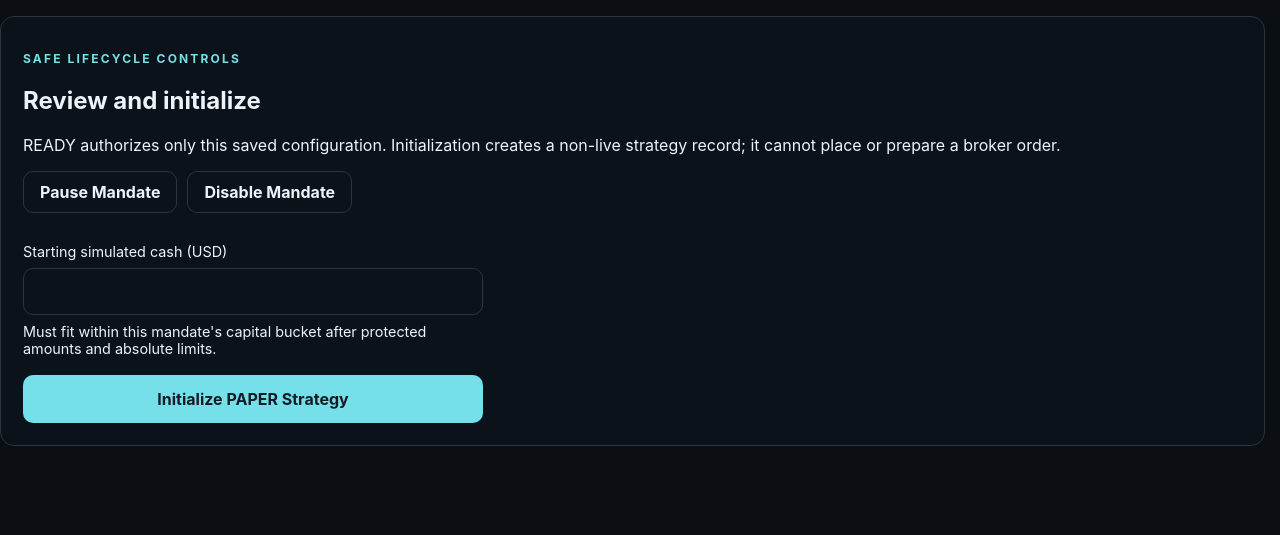
Scenario: MandateControls › explains aggregate account-level capital isolation
Type "1" into the number field labelled "Starting simulated cash" at (253, 291), box [23,268,483,315]
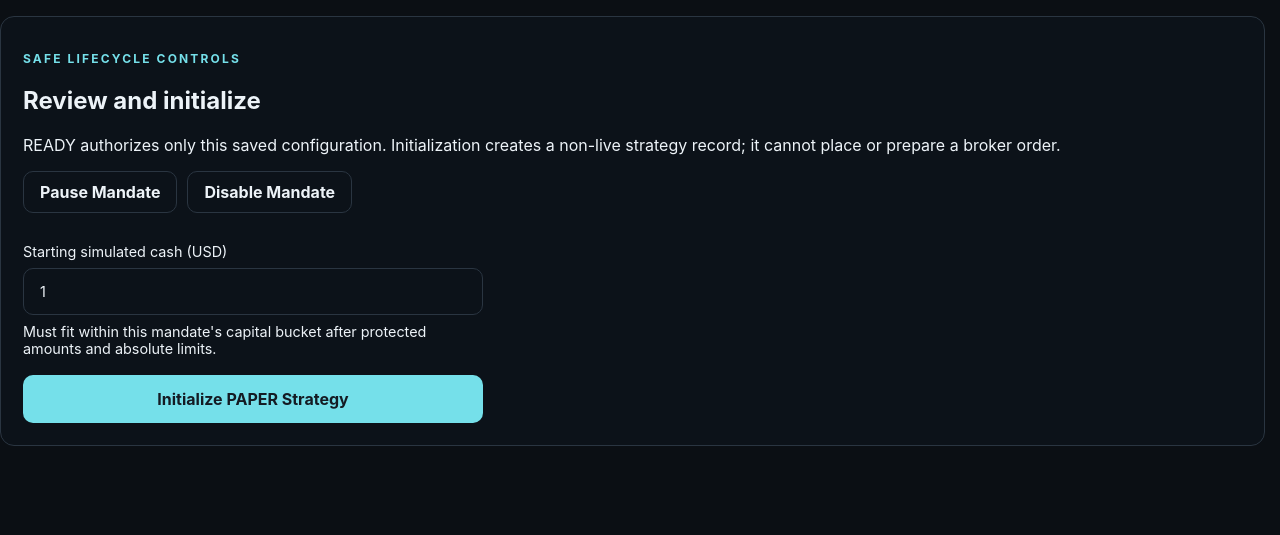
Click the button "Initialize PAPER Strategy" at (253, 399), box [23,375,483,423]
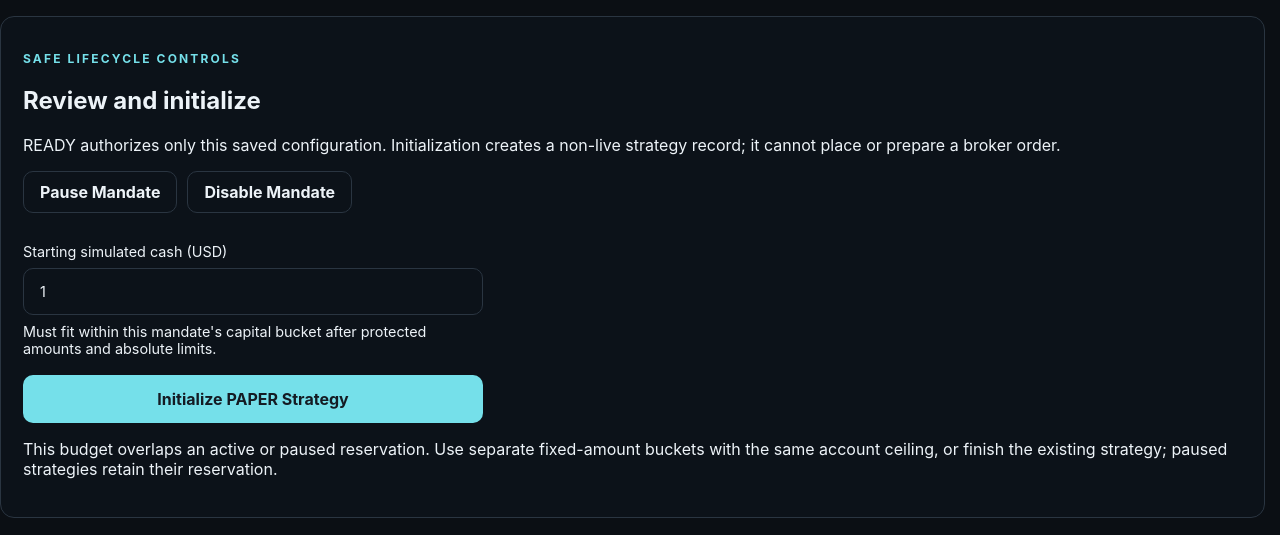
Result: the text "overlaps an active or paused reservation" is shown at [23,439,1227,479]
